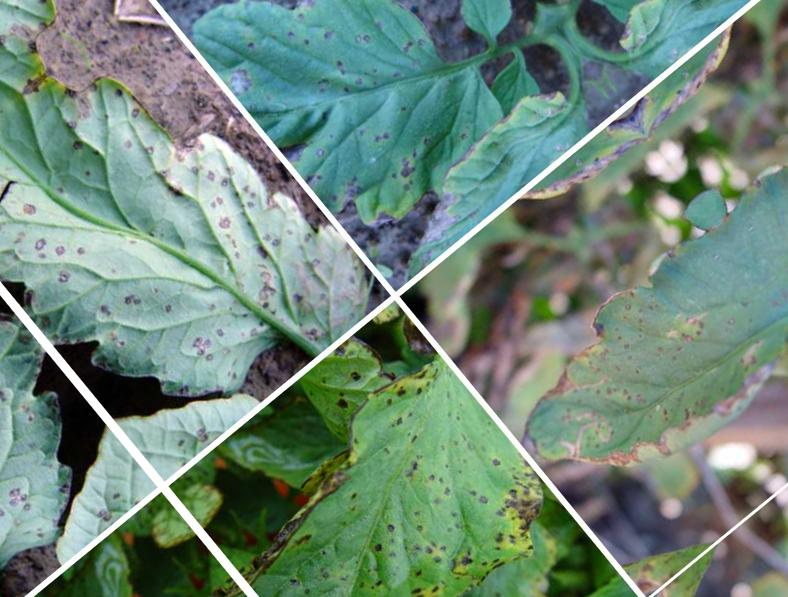Tomato leaf bacterial spot: (0, 1, 375, 465), (473, 206, 788, 530), (200, 329, 576, 597), (188, 0, 552, 242)
